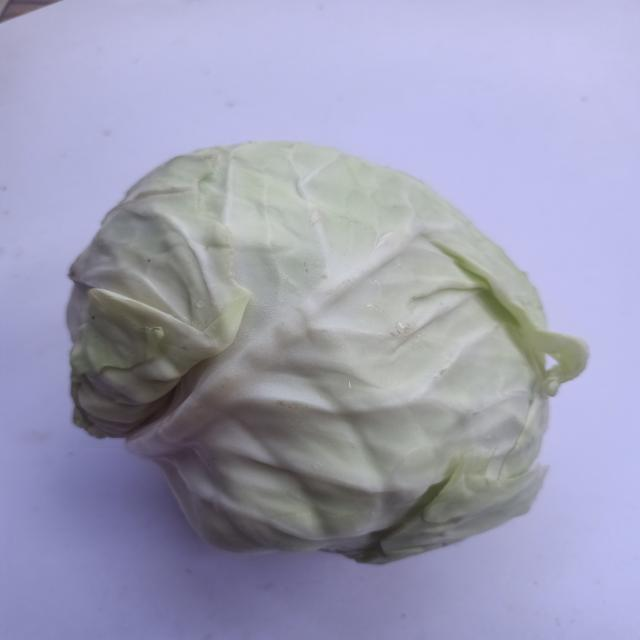Cabbage: (44, 135, 610, 585)
